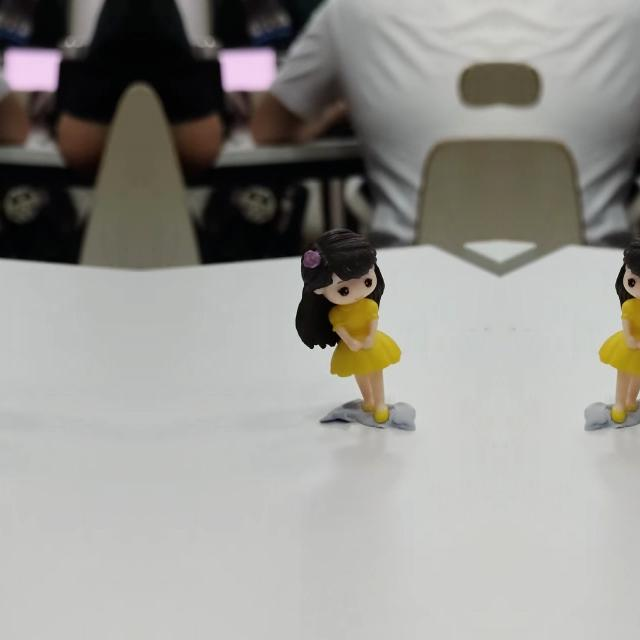woman head: (300, 229, 382, 307), (618, 229, 640, 307)
